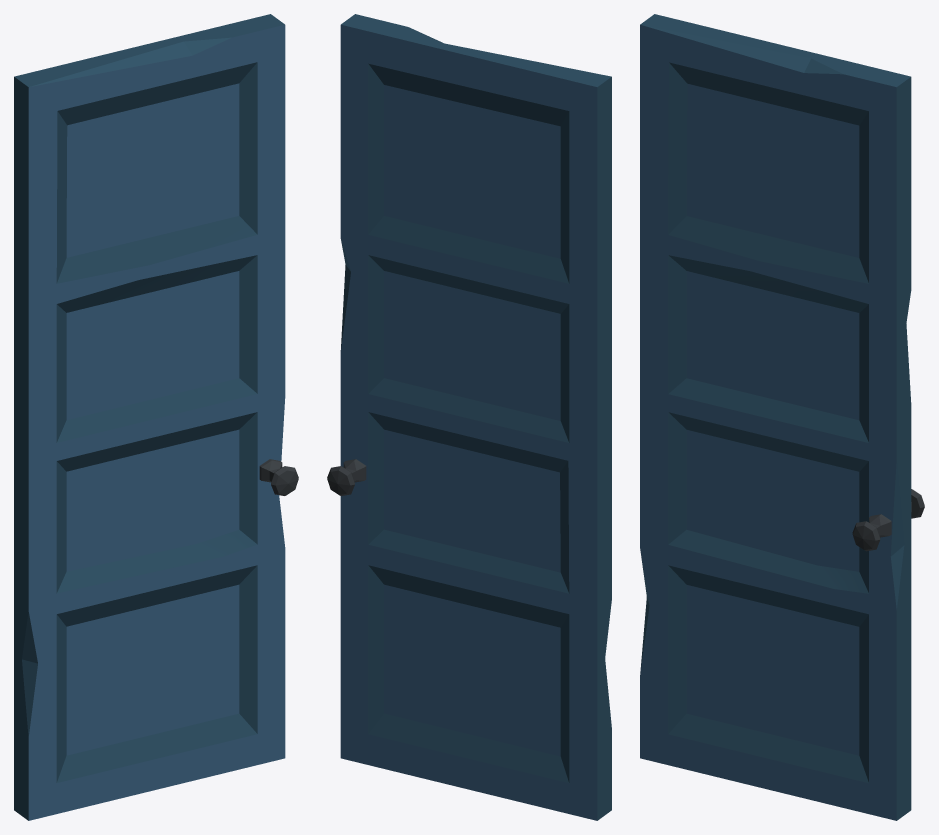
Rendered from SM_Bld_Shop_Door_04_L.fbx.
3 renders of one model, left to right at view 1: azimuth 30°, elevation 25°; view 2: azimuth 150°, elevation 25°; view 3: azimuth 330°, elevation 25°, orthographic.
Visible parts, largest first — view 1: SM_Bld_Shop_Door_04_L; view 2: SM_Bld_Shop_Door_04_L; view 3: SM_Bld_Shop_Door_04_L.
Boxes of the visible parts, <box> form: SM_Bld_Shop_Door_04_L: <box>14,14,298,820</box>; SM_Bld_Shop_Door_04_L: <box>327,14,611,820</box>; SM_Bld_Shop_Door_04_L: <box>640,14,924,820</box>.
Bounding box in the file's own units: 103 × 280 × 35.86.
